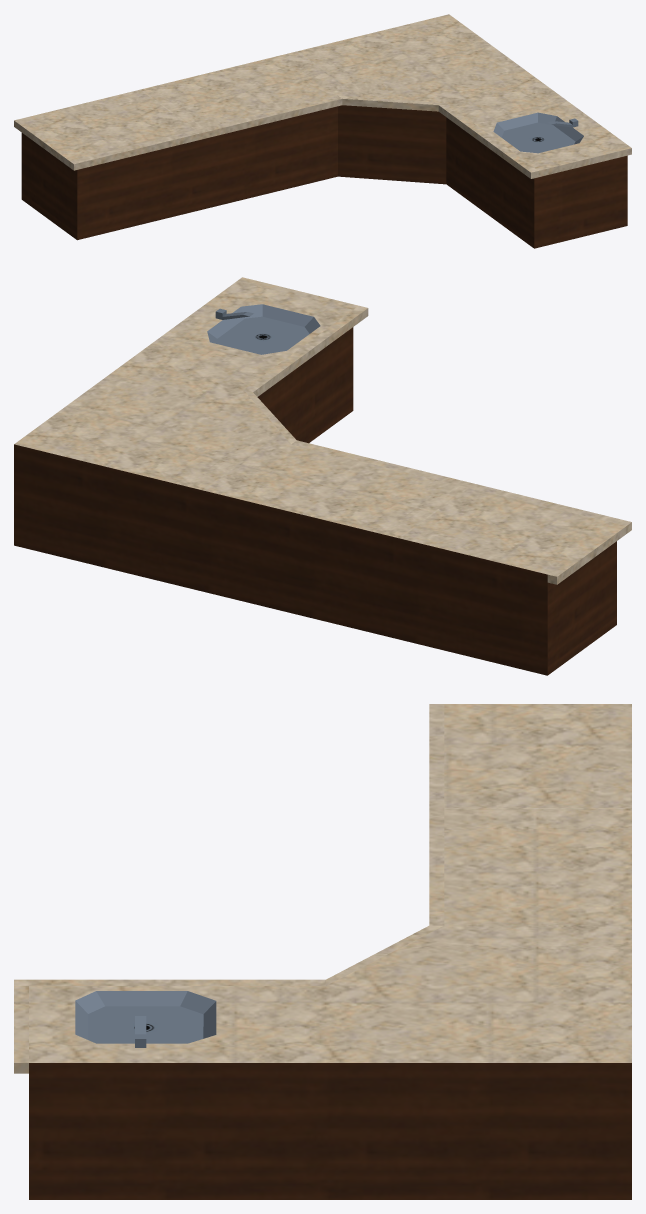
The model's file is sink.fbx.
3 renders of one model, top to bottom at view 1: azimuth 30°, elevation 25°; view 2: azimuth 150°, elevation 25°; view 3: azimuth 270°, elevation 25°, orthographic. The views are drawn at different scales.
Parts seen in each view (by area): view 1: polySurface1; view 2: polySurface1; view 3: polySurface1.
Boxes of the visible parts, x1,y1,x2,y2 form: polySurface1: [14, 14, 631, 248]; polySurface1: [14, 277, 631, 675]; polySurface1: [14, 704, 631, 1199].
Bounding box in the file's own units: 5.3 × 1.04 × 3.86.
